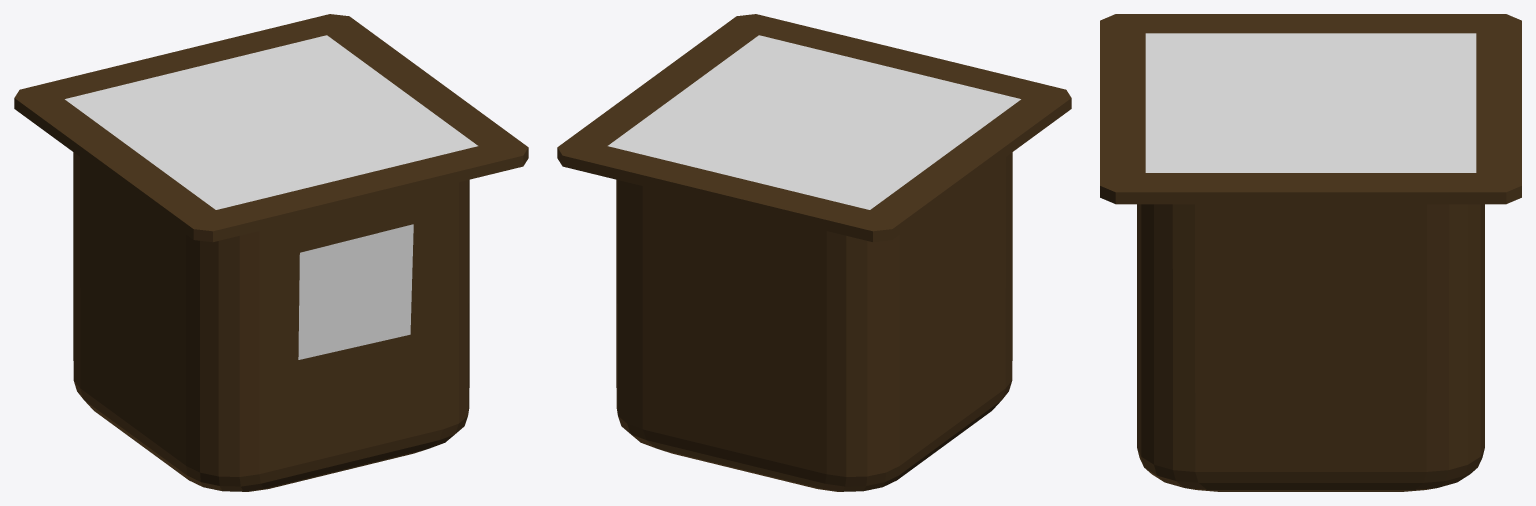
The model's file is uGURTfbx.fbx.
3 renders of one model, left to right at view 1: azimuth 30°, elevation 25°; view 2: azimuth 150°, elevation 25°; view 3: azimuth 270°, elevation 25°, orthographic. The views are drawn at different scales.
Visible parts, largest first — view 1: Cube; view 2: Cube; view 3: Cube.
Part boxes in pixels (box(x1,y1,x2,y2)): Cube: box(14, 14, 528, 491); Cube: box(557, 14, 1071, 491); Cube: box(1100, 14, 1521, 491).
Size of the model in its own units: 60.61 by 51.79 by 60.61.
